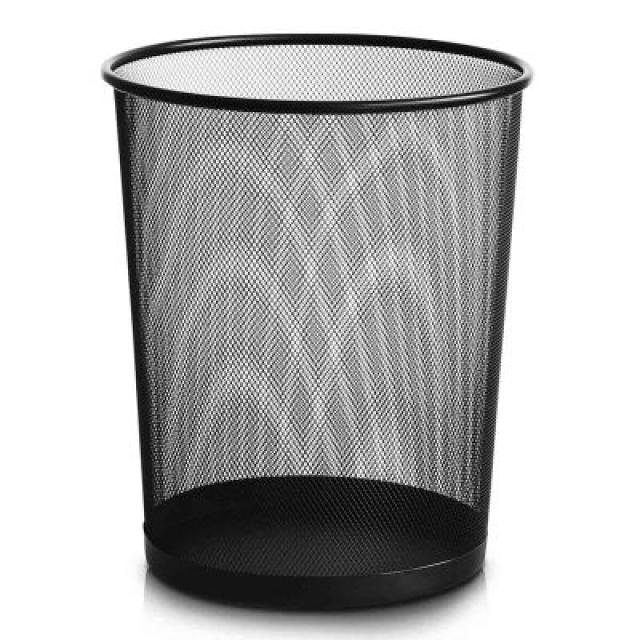dustbin: (98, 29, 539, 618)
